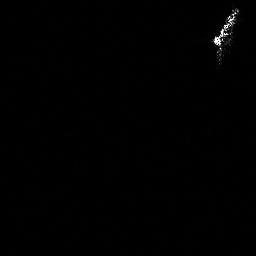ship: (208, 5, 241, 64)
